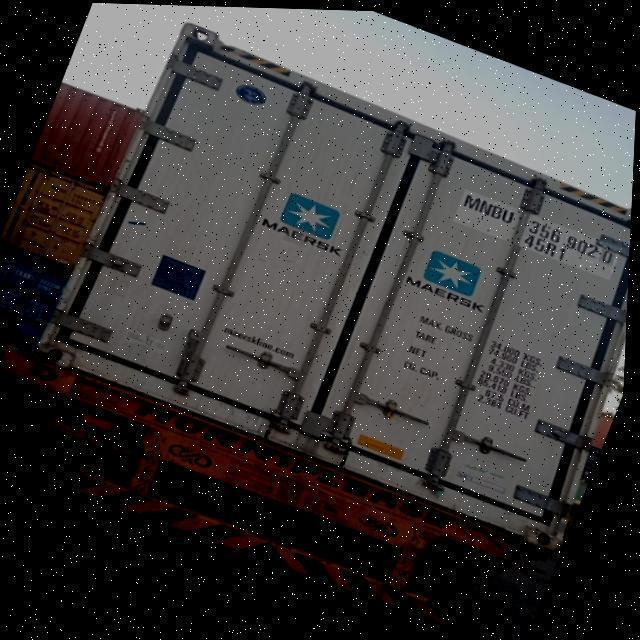container_number_h: (453, 186, 628, 277)
